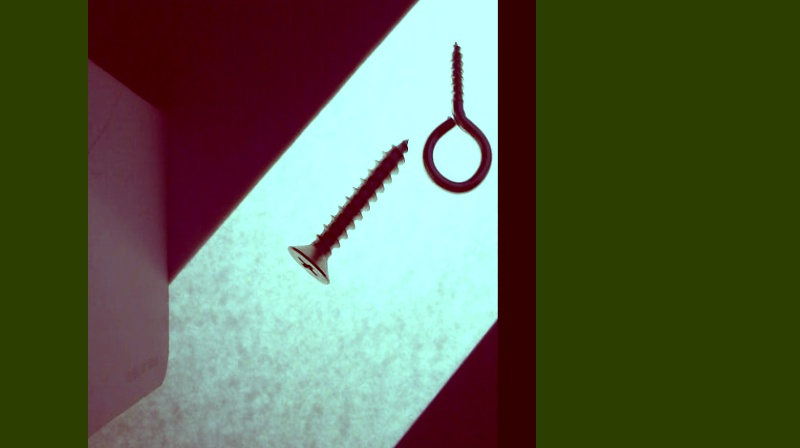O001: (422, 40, 493, 194)
S001: (285, 135, 412, 286)
